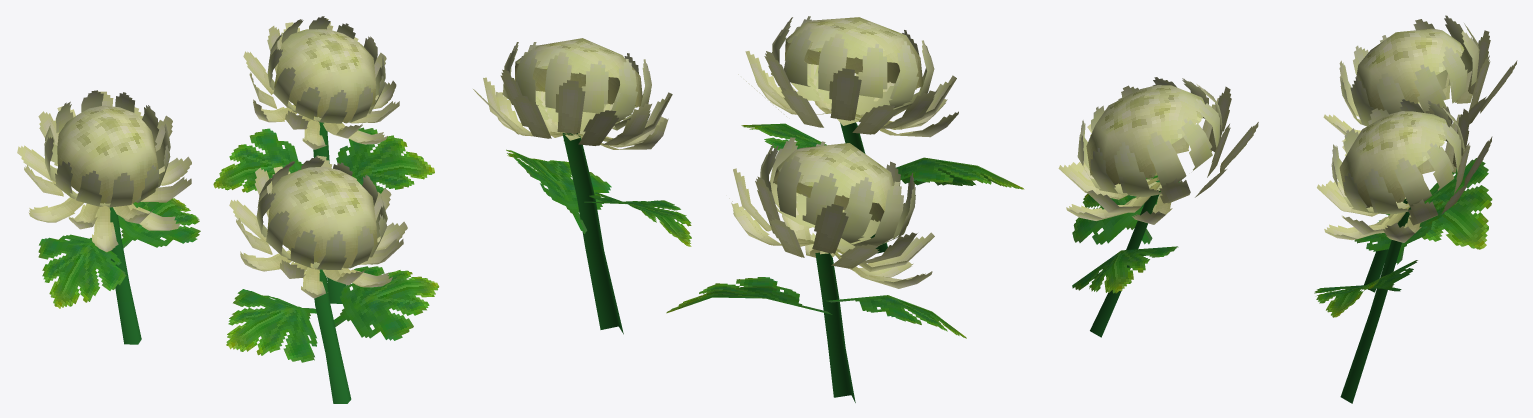
The model's file is white-mums.glb.
The picture shows the model from 3 angles, left to right: view 1: azimuth 30°, elevation 25°; view 2: azimuth 150°, elevation 25°; view 3: azimuth 270°, elevation 25°; orthographic projection. The views are drawn at different scales.
Bounding box in the file's own units: 9.99 × 6.47 × 9.28.
Materials: 2 (2 with a texture image).
